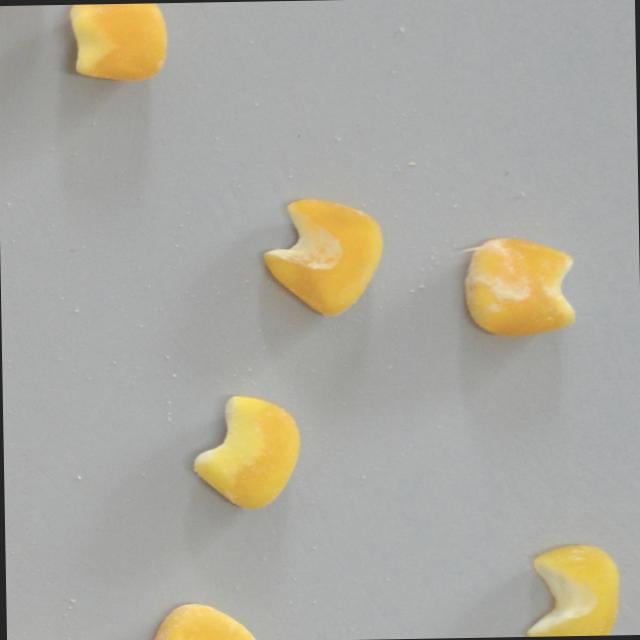no_canjicado: (260, 194, 386, 321), (189, 389, 307, 514)
pelicula: (450, 233, 582, 343), (520, 541, 622, 637), (65, 3, 170, 86), (145, 600, 264, 640)
